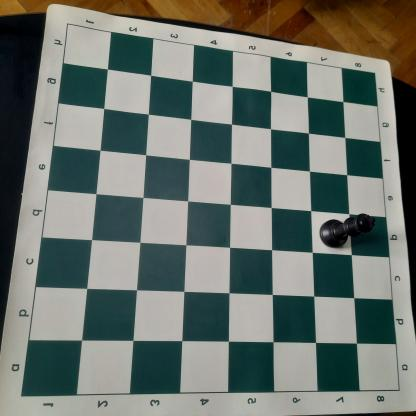black-king: (319, 212, 377, 250)
